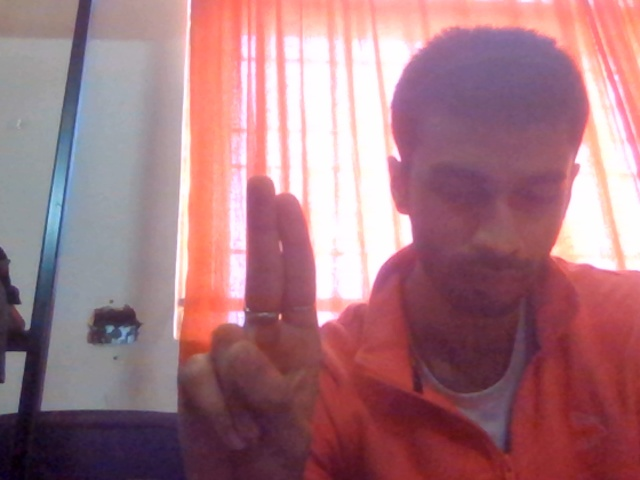U: (152, 155, 360, 480)
